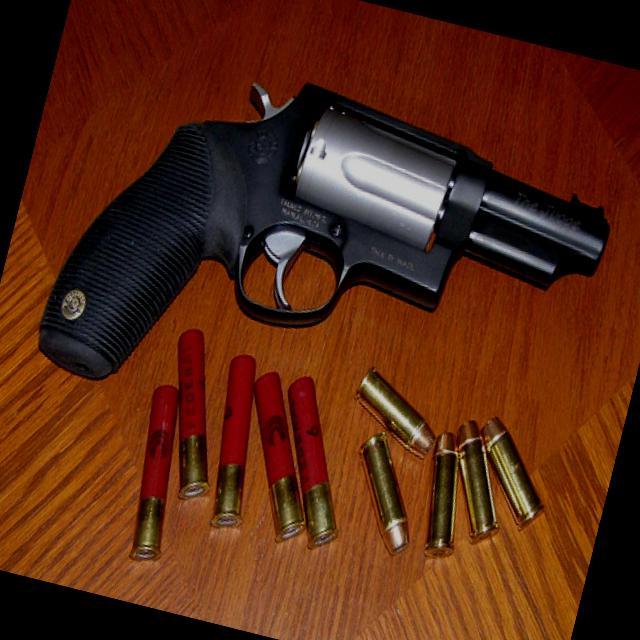handgun: (26, 29, 628, 492)
